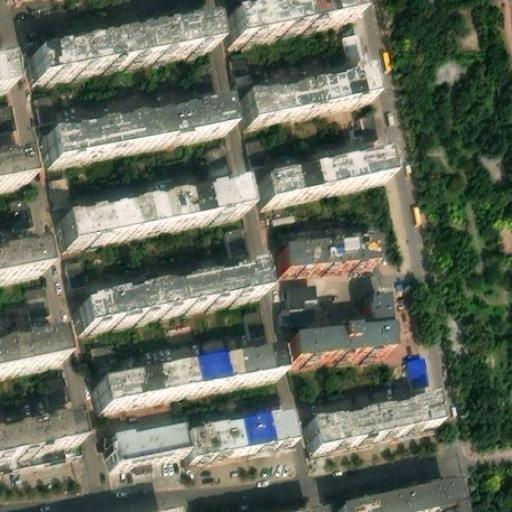building: (65, 176, 253, 238), (50, 95, 235, 157), (75, 254, 263, 314), (38, 11, 222, 69), (102, 346, 284, 402), (310, 393, 443, 446), (246, 67, 376, 116), (263, 149, 394, 195), (185, 412, 294, 459), (235, 0, 364, 31), (336, 481, 462, 512), (0, 411, 84, 453), (288, 324, 393, 357), (108, 425, 185, 464), (280, 239, 376, 269), (0, 237, 50, 271), (401, 353, 431, 391), (282, 284, 318, 312), (362, 293, 391, 326), (0, 52, 18, 82)
